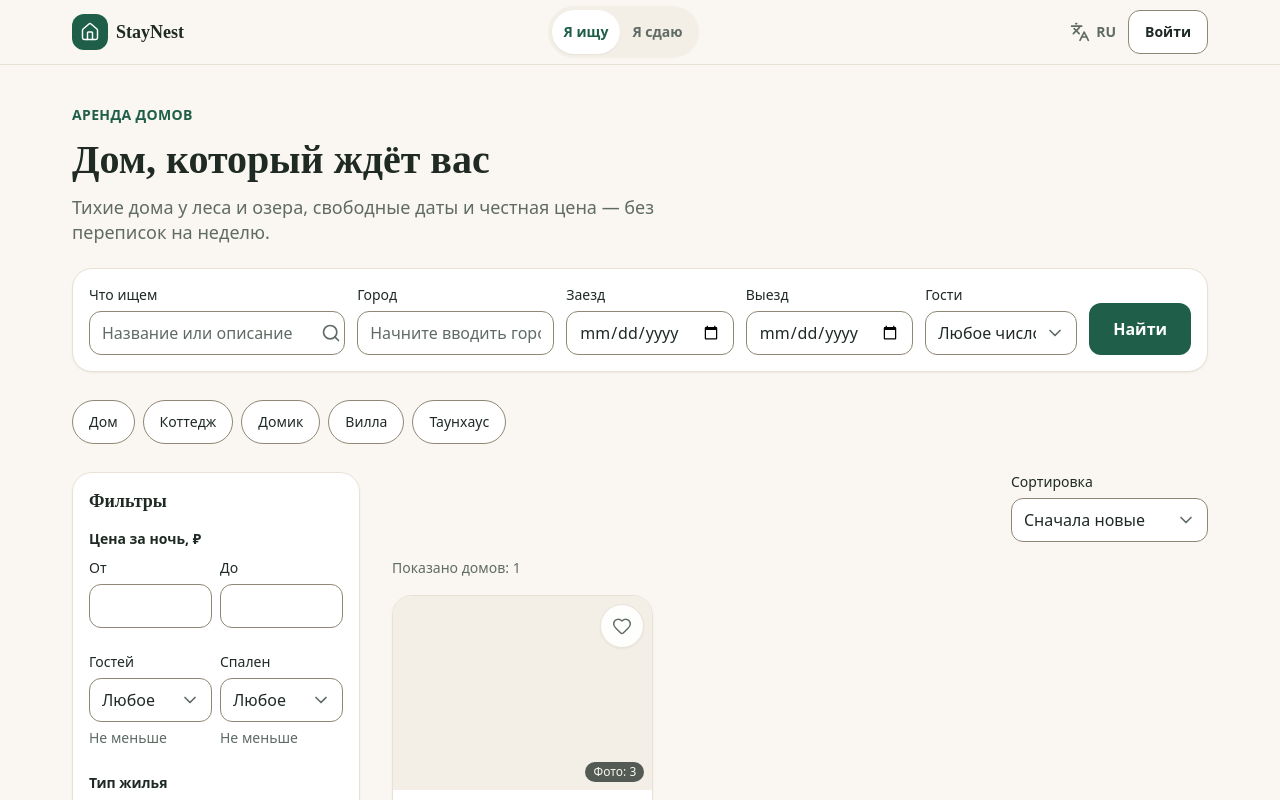
Scenario: App › переключает режим и нижнюю навигацию
This screenshot has width=1280, height=800.
Expected: the heading "Дом, который ждёт вас" is shown, [72,137,490,182]
What coordinates should you click on to do the following:
click the button "Я сдаю"
I would click on:
 (658, 32)
Its box is [620,10,695,54].
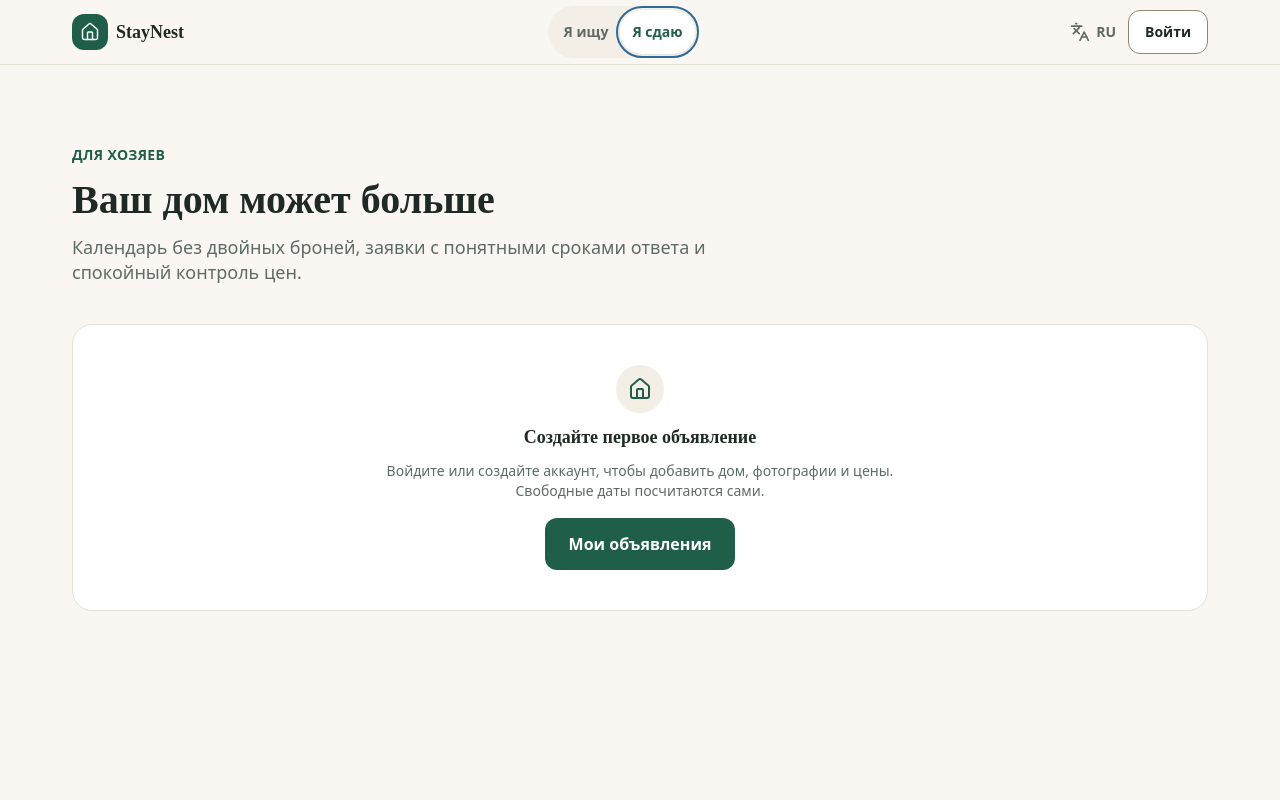
Result: the heading "Ваш дом может больше" is shown at [72,177,495,222]
